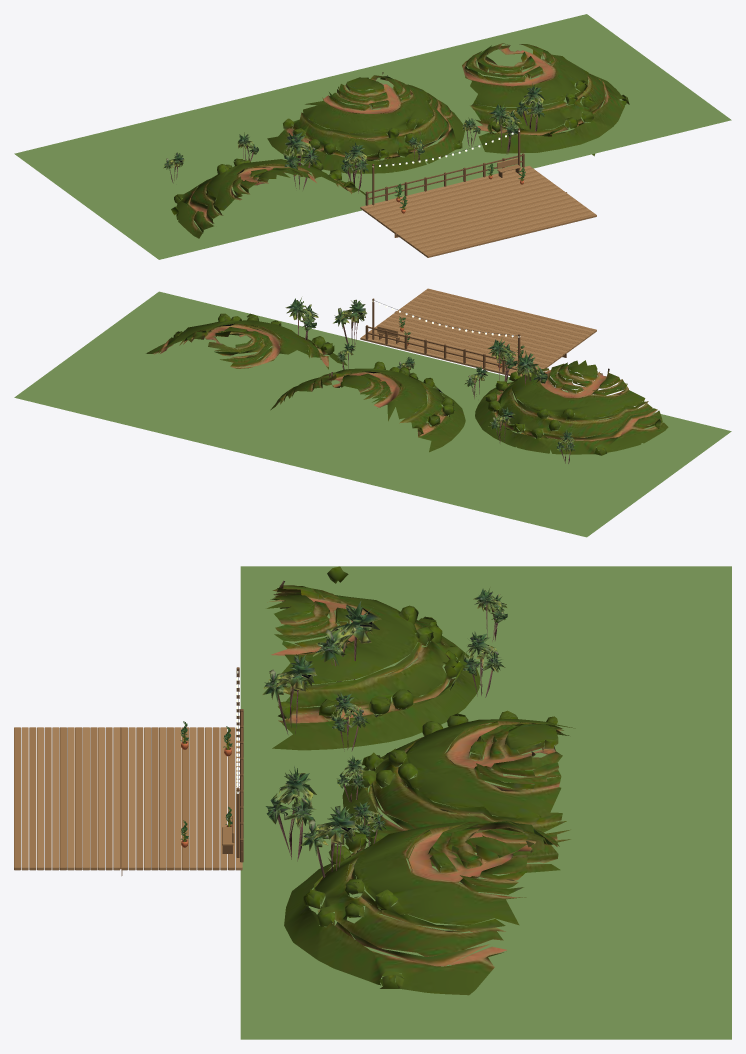
File: stage.glb
3 renders of one model, top to bottom at view 1: azimuth 30°, elevation 25°; view 2: azimuth 150°, elevation 25°; view 3: azimuth 270°, elevation 25°, orthographic. The views are drawn at different scales.
Parts seen in each view (by area): view 1: stage_proc, stage_farm; view 2: stage_proc, stage_farm; view 3: stage_proc, stage_farm.
Part boxes in pixels (left/top/right/bottom): stage_proc: left=14, top=14, right=731, bottom=259; stage_farm: left=163, top=43, right=629, bottom=238; stage_proc: left=14, top=288, right=731, bottom=537; stage_farm: left=146, top=297, right=668, bottom=463; stage_proc: left=14, top=566, right=731, bottom=1039; stage_farm: left=262, top=566, right=575, bottom=995.
Bounding box in the file's own units: 44 × 5.31 × 28.2.
3 materials, 3 textured.
